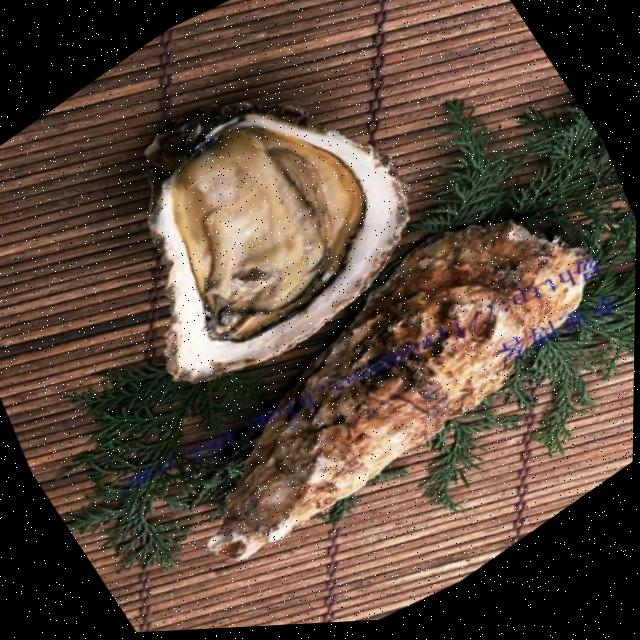Oyster-Indeterminate: (208, 220, 596, 558)
Oyster-Open: (144, 101, 407, 382)
